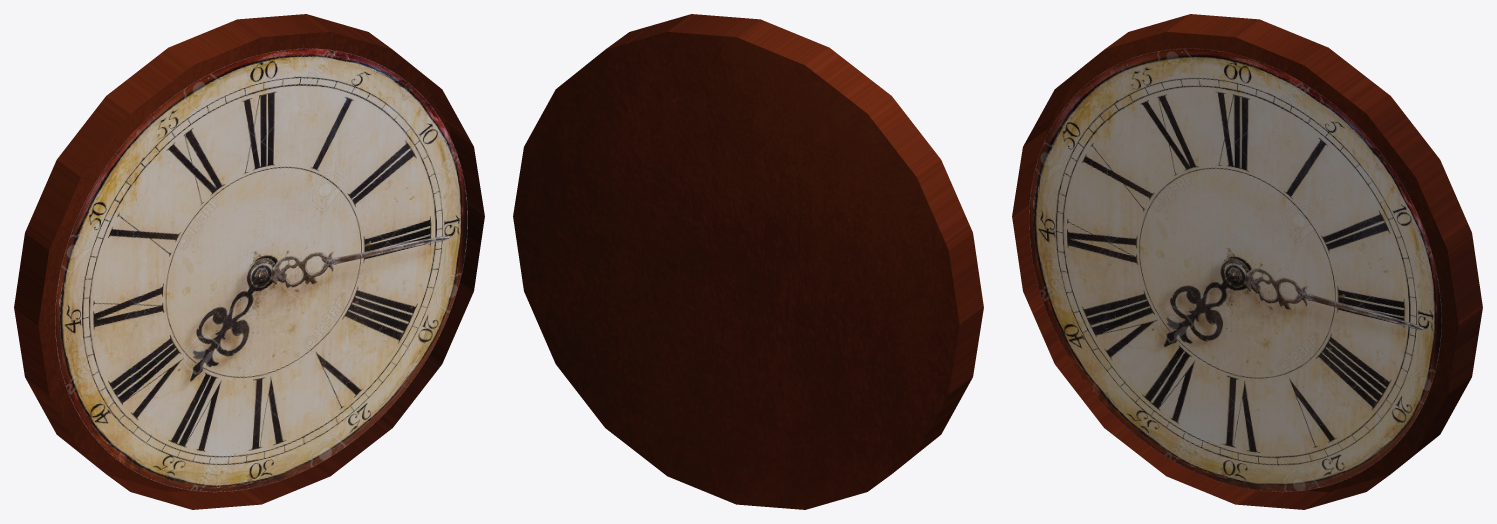
The model's file is tokei.fbx.
3 renders of one model, left to right at view 1: azimuth 30°, elevation 25°; view 2: azimuth 150°, elevation 25°; view 3: azimuth 330°, elevation 25°, orthographic.
Visible parts, largest first — view 1: pCylinder1; view 2: pCylinder1; view 3: pCylinder1.
Boxes of the visible parts, x1,y1,x2,y2 form: pCylinder1: (14,14,484,509); pCylinder1: (513,14,983,509); pCylinder1: (1012,14,1482,509).
Size of the model in its own units: 134 by 134 by 12.6.
